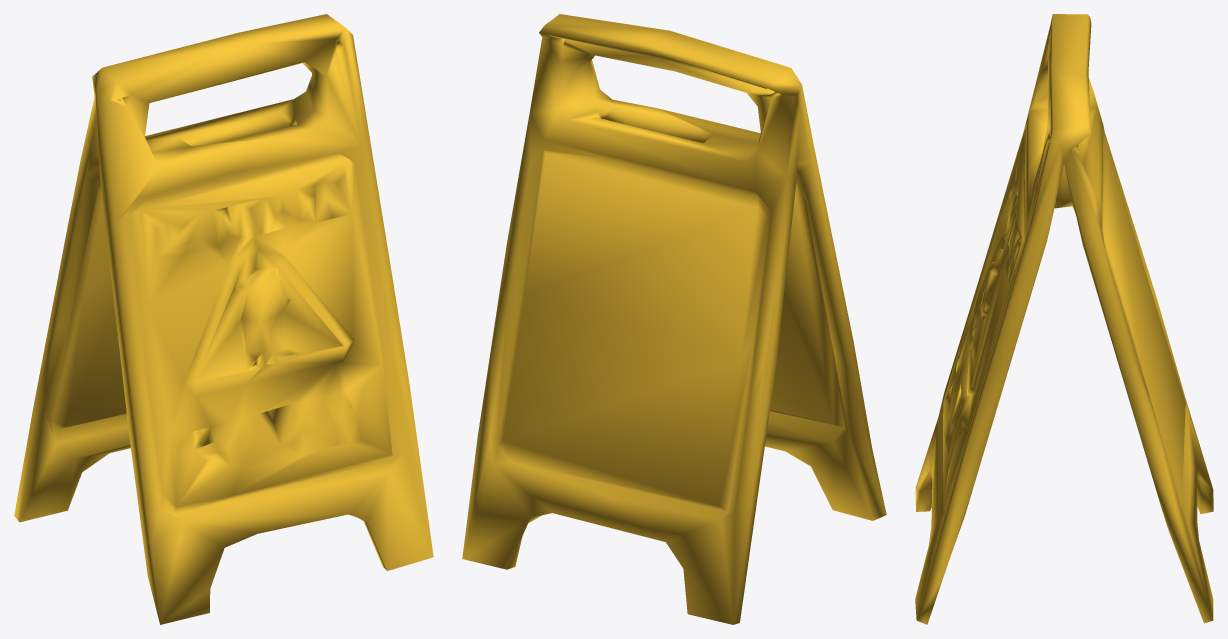
File: SM_prop_wet_sign.glb
3 renders of one model, left to right at view 1: azimuth 30°, elevation 25°; view 2: azimuth 150°, elevation 25°; view 3: azimuth 270°, elevation 25°, orthographic.
Parts seen in each view (by area): view 1: SM_prop_wet_sign; view 2: SM_prop_wet_sign; view 3: SM_prop_wet_sign.
Part boxes in pixels (x1=…): SM_prop_wet_sign: x1=14, y1=14, x2=433, y2=624; SM_prop_wet_sign: x1=462, y1=14, x2=886, y2=624; SM_prop_wet_sign: x1=915, y1=14, x2=1213, y2=624.
Bounding box in the file's own units: 0.348 × 0.6 × 0.3269.
1 material, 1 textured.
